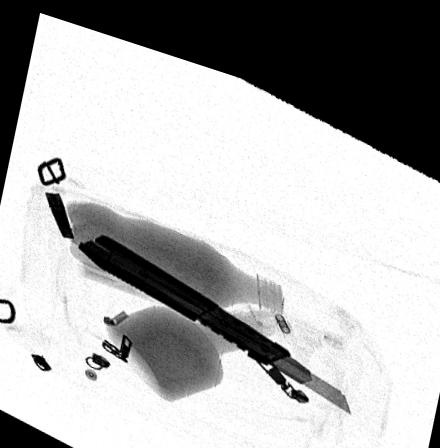Knife: (77, 227, 352, 393)
